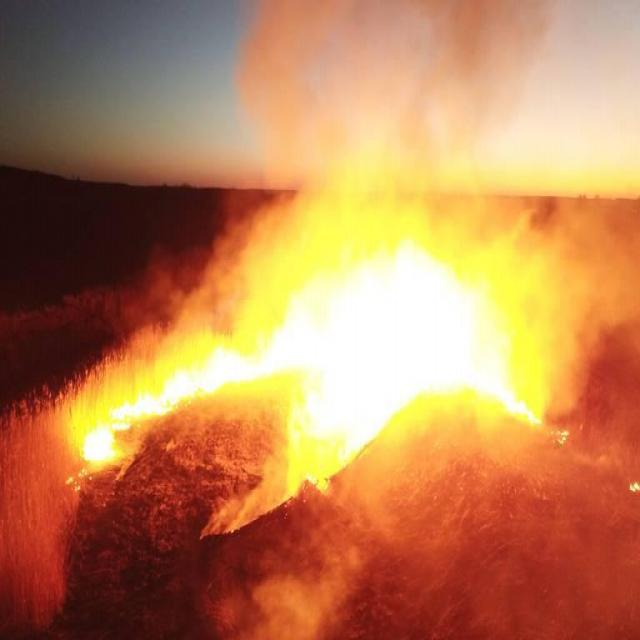fire: (83, 188, 583, 536)
